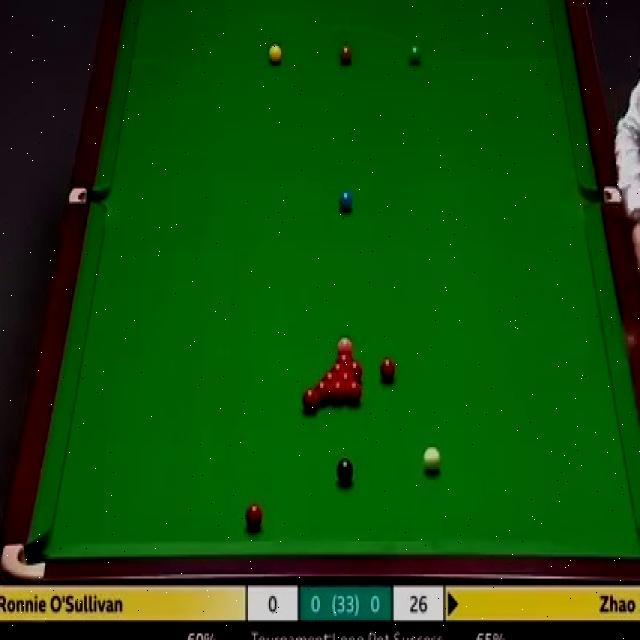black-ball: (336, 456, 354, 484)
blue-ball: (337, 188, 352, 213)
brown-ball: (339, 44, 353, 66)
green-ball: (407, 43, 422, 66)
pink-ball: (336, 335, 354, 351)
red-ball: (245, 505, 263, 534), (379, 357, 397, 381), (346, 379, 362, 406), (330, 379, 346, 405), (315, 378, 330, 404), (302, 386, 318, 410), (348, 360, 362, 380), (328, 362, 346, 377), (322, 370, 340, 384), (336, 350, 353, 364), (338, 370, 356, 383)
white-ball: (422, 445, 441, 473)
yellow-ball: (268, 42, 282, 65)
